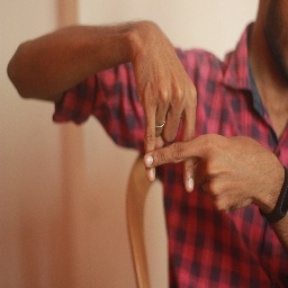H: (119, 77, 228, 221)
